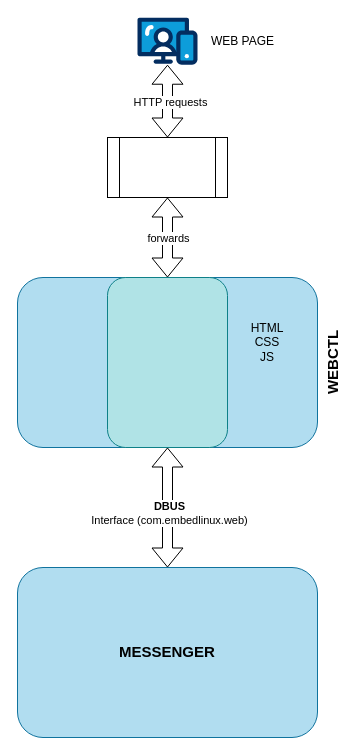
The diagram is 360 pixels wide and 755 high, and some of its shapes have lost their labels. The centre of each missing label's shape, as x and y in pixels:
"NGINX" belongs at [167,167].
"NodeJs" belongs at [167,362].
